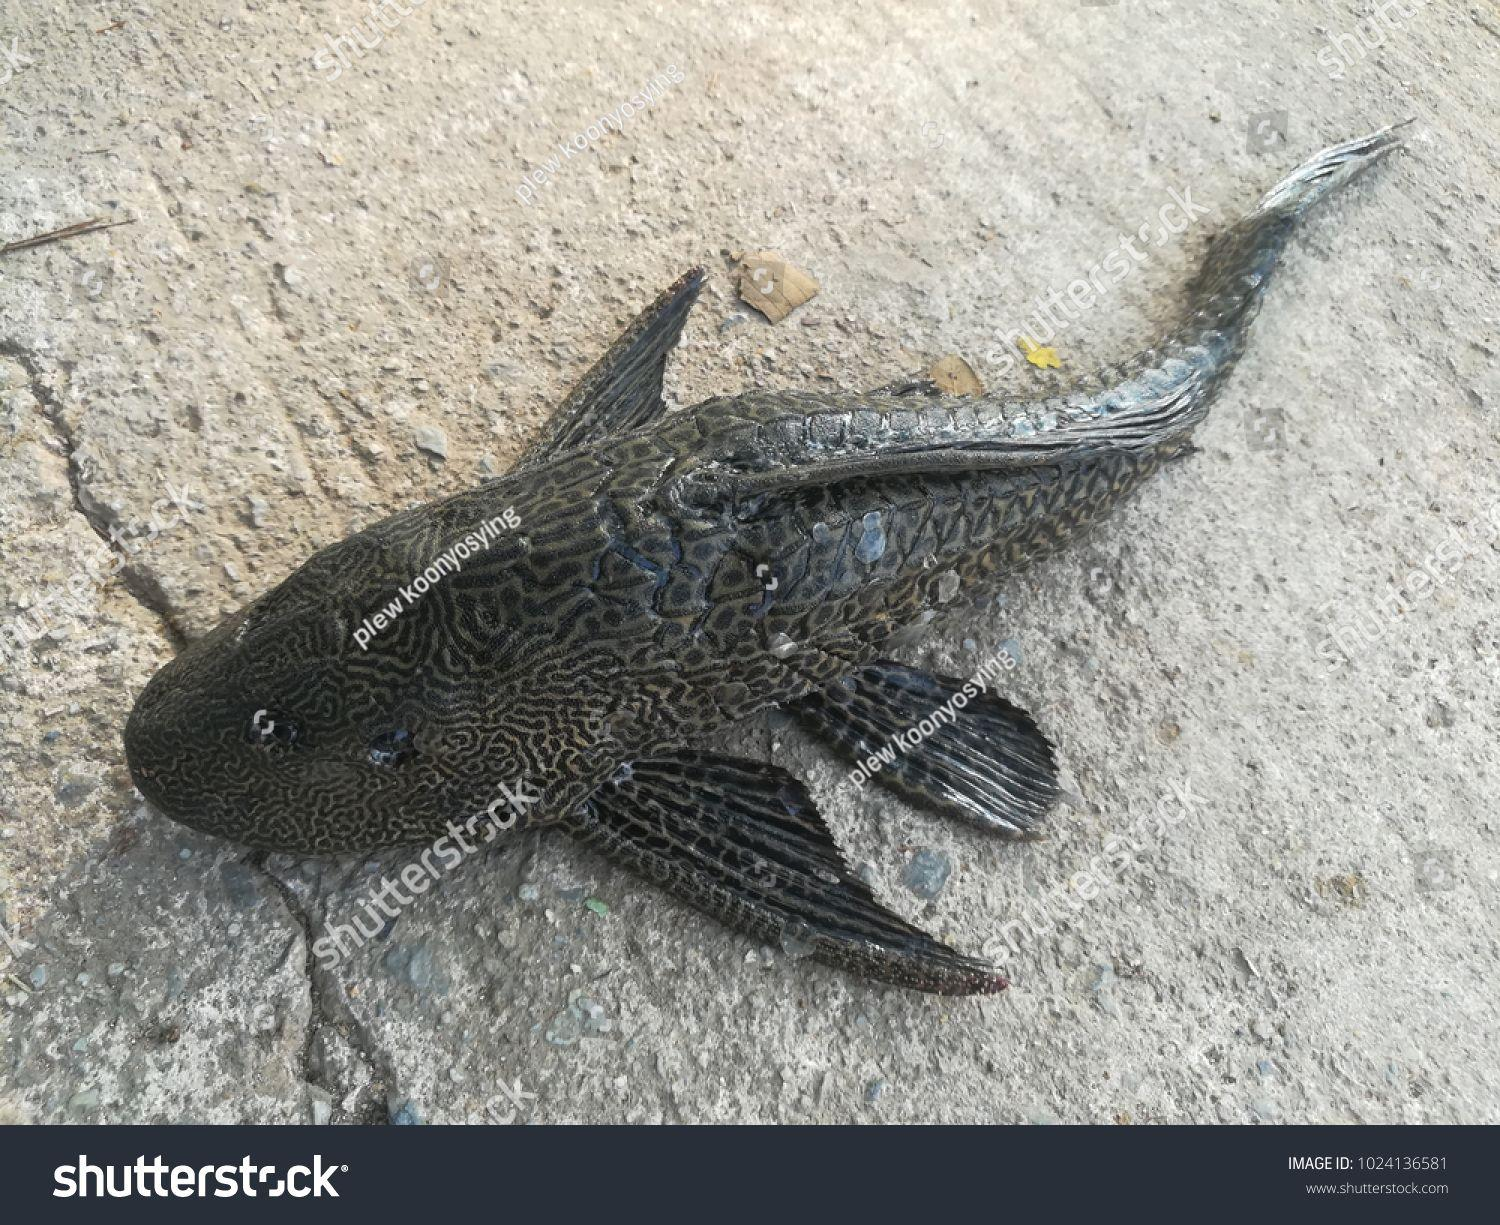Janitor Fish: (108, 117, 1410, 1007)
